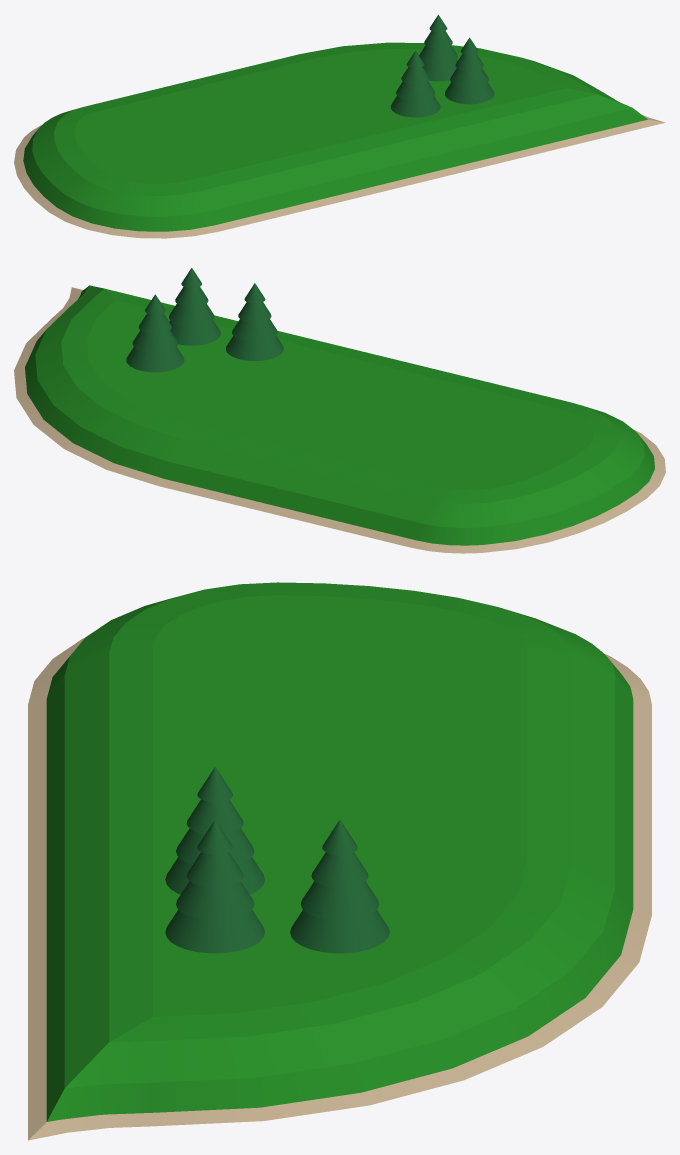
File: racetrack_grass_with_trees.glb
The picture shows the model from 3 angles, top to bottom: view 1: azimuth 30°, elevation 25°; view 2: azimuth 150°, elevation 25°; view 3: azimuth 270°, elevation 25°; orthographic projection. The views are drawn at different scales.
Parts seen in each view (by area): view 1: Track_Normal_Straight_1x1.022; view 2: Track_Normal_Straight_1x1.022; view 3: Track_Normal_Straight_1x1.022.
Part boxes in pixels (x1=…): Track_Normal_Straight_1x1.022: x1=14, y1=14, x2=665, y2=238; Track_Normal_Straight_1x1.022: x1=14, y1=268, x2=665, y2=553; Track_Normal_Straight_1x1.022: x1=28, y1=582, x2=651, y2=1140.
Bounding box in the file's own units: 10.27 × 1.55 × 5.
